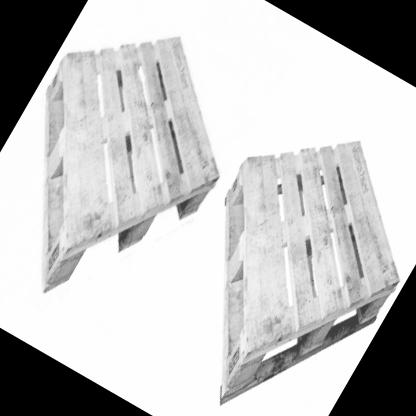BoxFace: (218, 138, 401, 408), (39, 35, 220, 298)
